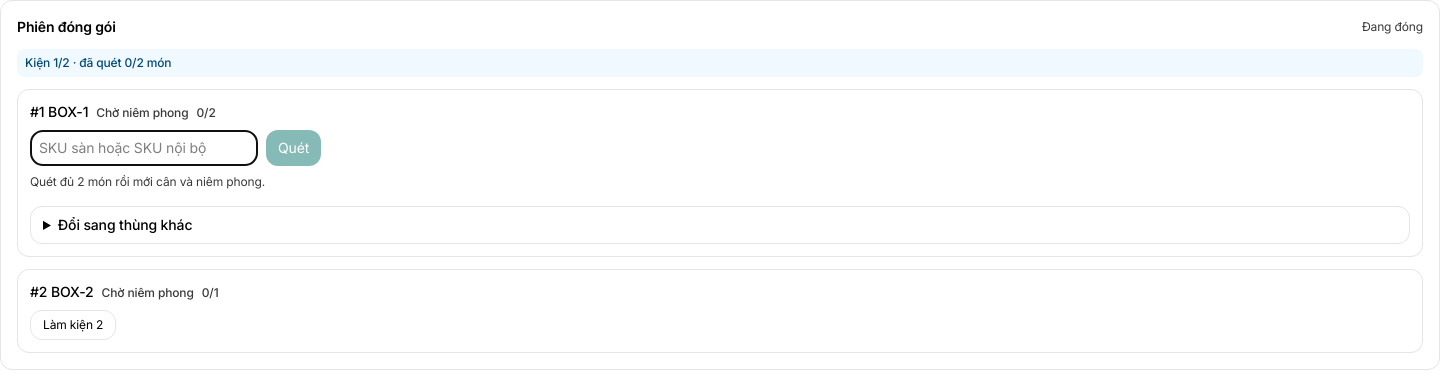
Test: PackingSessionPanel › chỉ kiện đang làm được mở; thanh tiến độ "Kiện 1/2 · đã quét 0/2 món"
Expected: the text "Kiện 1/2 · đã quét 0/2 món" is shown, x1=17 y1=49 x2=1423 y2=77
Expected: the number of fields with placeholder "SKU sàn hoặc SKU nội bộ" is 1, x1=30 y1=130 x2=258 y2=166
Click the button "Làm kiện 2". click: {"x": 73, "y": 325}
box: x1=30 y1=310 x2=116 y2=340
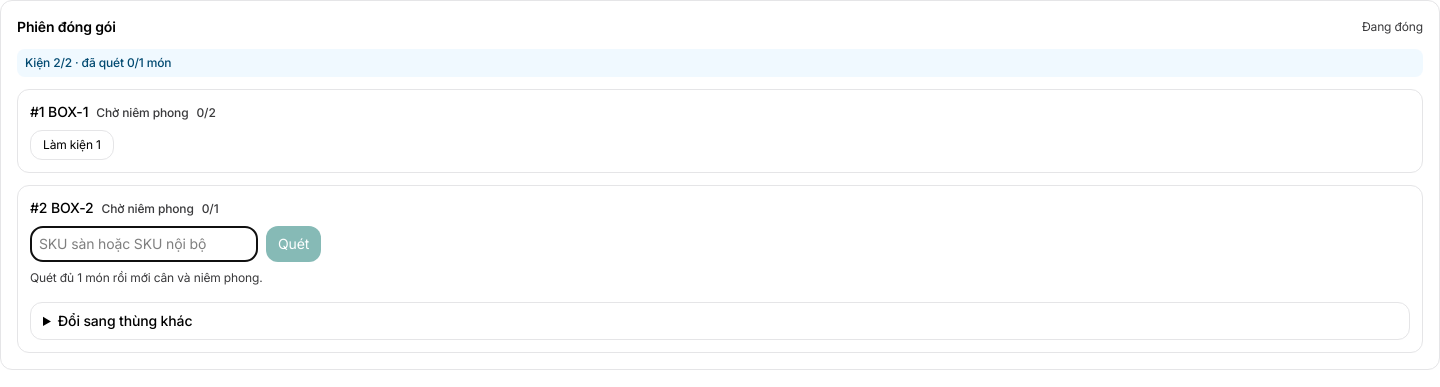
Now the text "Kiện 2/2 · đã quét 0/1 món" is shown, box x1=17 y1=49 x2=1423 y2=77
